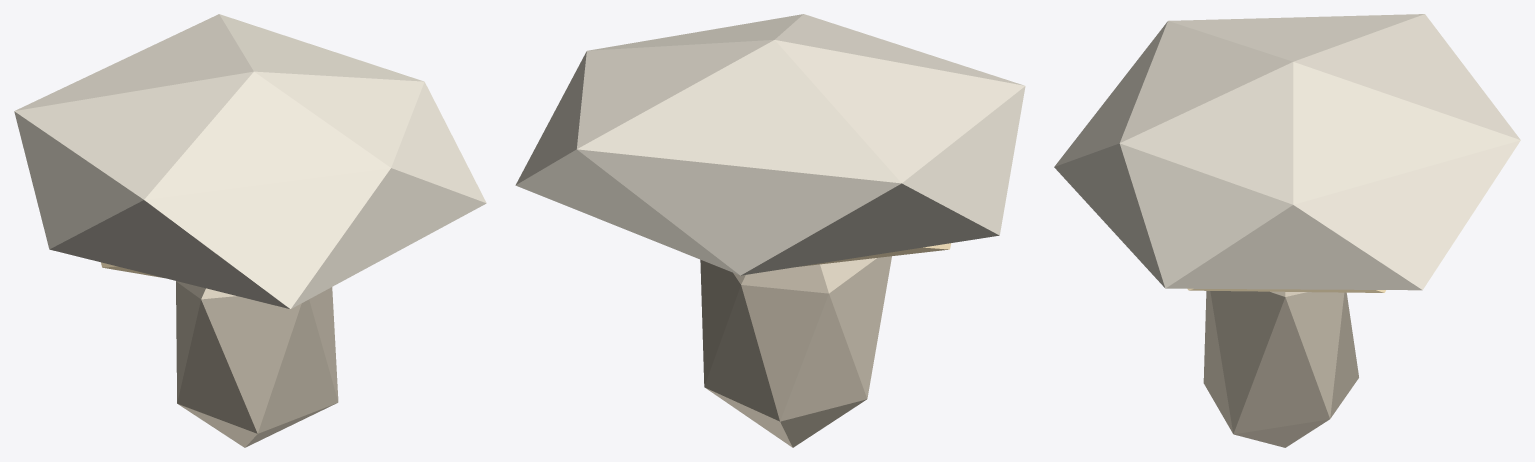
The model's file is vit_klippa_1.glb.
The picture shows the model from 3 angles, left to right: view 1: azimuth 30°, elevation 25°; view 2: azimuth 150°, elevation 25°; view 3: azimuth 270°, elevation 25°; orthographic projection. The views are drawn at different scales.
Parts seen in each view (by area): view 1: vit_klippa_1; view 2: vit_klippa_1; view 3: vit_klippa_1.
Boxes of the visible parts, bbox=[...] form: vit_klippa_1: bbox=[14, 14, 486, 447]; vit_klippa_1: bbox=[515, 14, 1025, 447]; vit_klippa_1: bbox=[1054, 14, 1520, 447].
Bounding box in the file's own units: 5.88 × 5.49 × 5.91.
